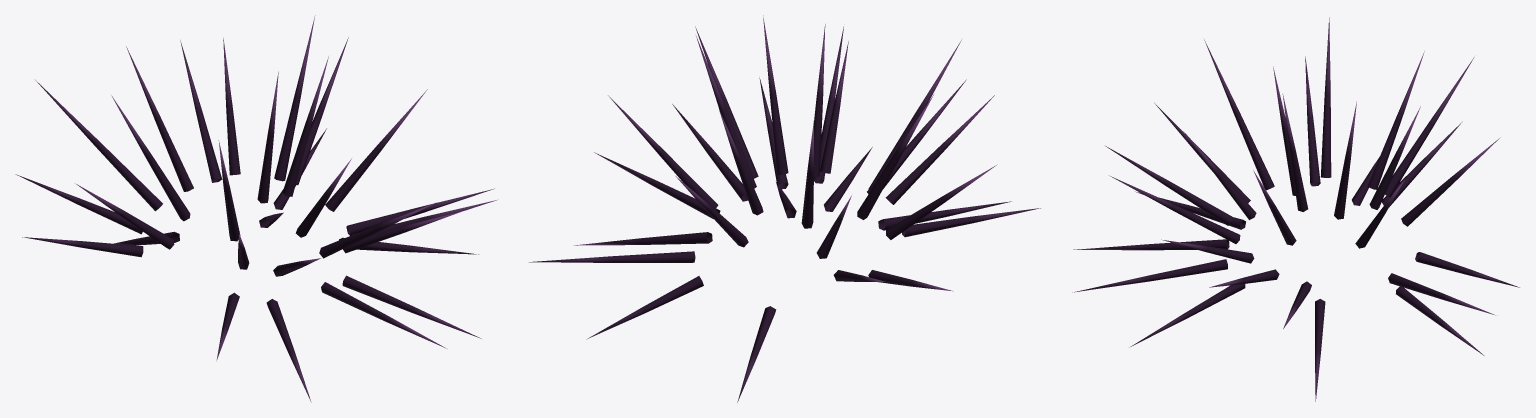
Rendered from Uni_SpineC.fbx.
The picture shows the model from 3 angles, left to right: view 1: azimuth 30°, elevation 25°; view 2: azimuth 150°, elevation 25°; view 3: azimuth 270°, elevation 25°; orthographic projection. The views are drawn at different scales.
Visible parts, largest first — view 1: Uni_SpineC; view 2: Uni_SpineC; view 3: Uni_SpineC.
Boxes of the visible parts, bbox=[...] form: Uni_SpineC: bbox=[15, 15, 496, 402]; Uni_SpineC: bbox=[529, 15, 1040, 402]; Uni_SpineC: bbox=[1072, 17, 1519, 401].
Size of the model in its own units: 2.75 by 1.68 by 2.78.
